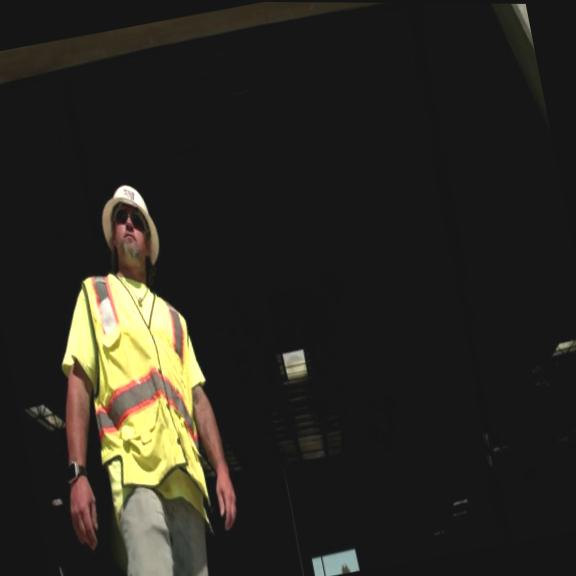safety_vest: (67, 253, 222, 524)
